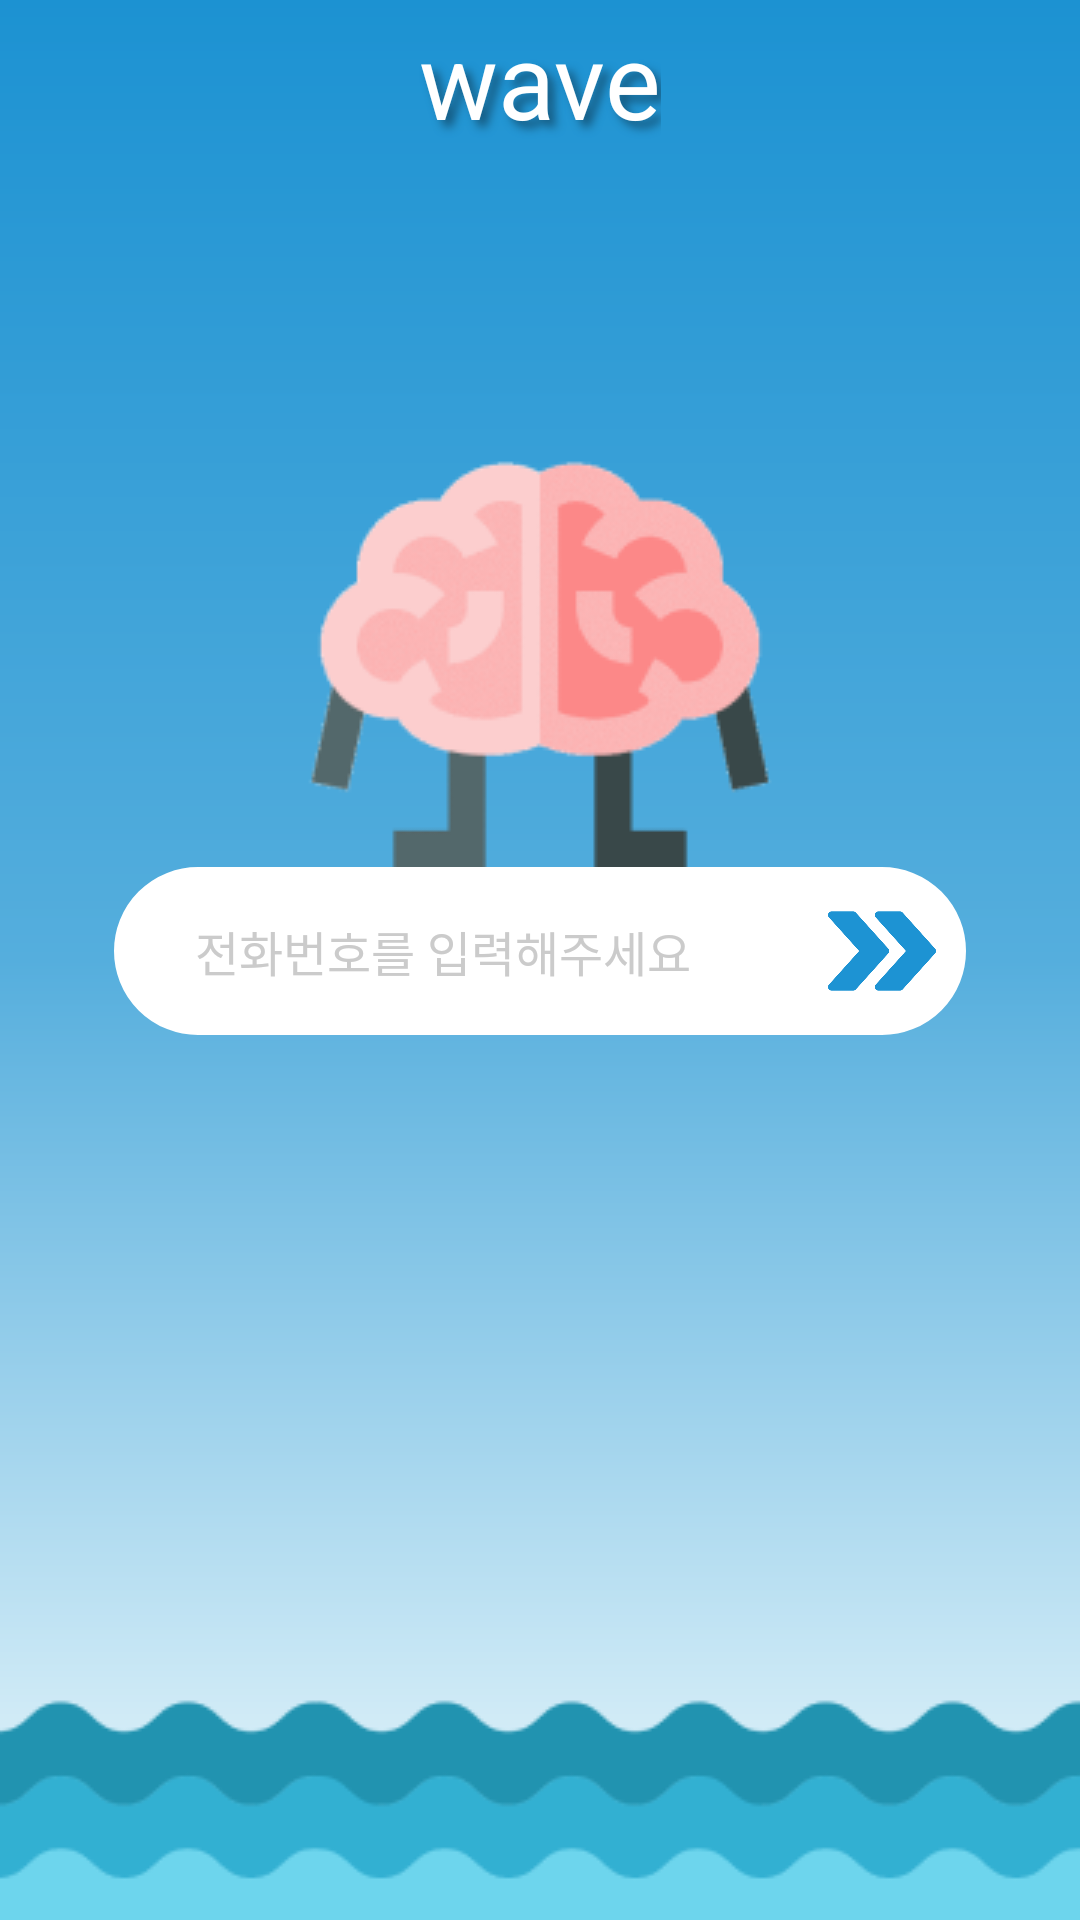

Locate icon controls on the screen. Image size 1080w x 1920h, boxes as (x1, y1, x2, y2).
forward: (828, 911, 936, 991)
